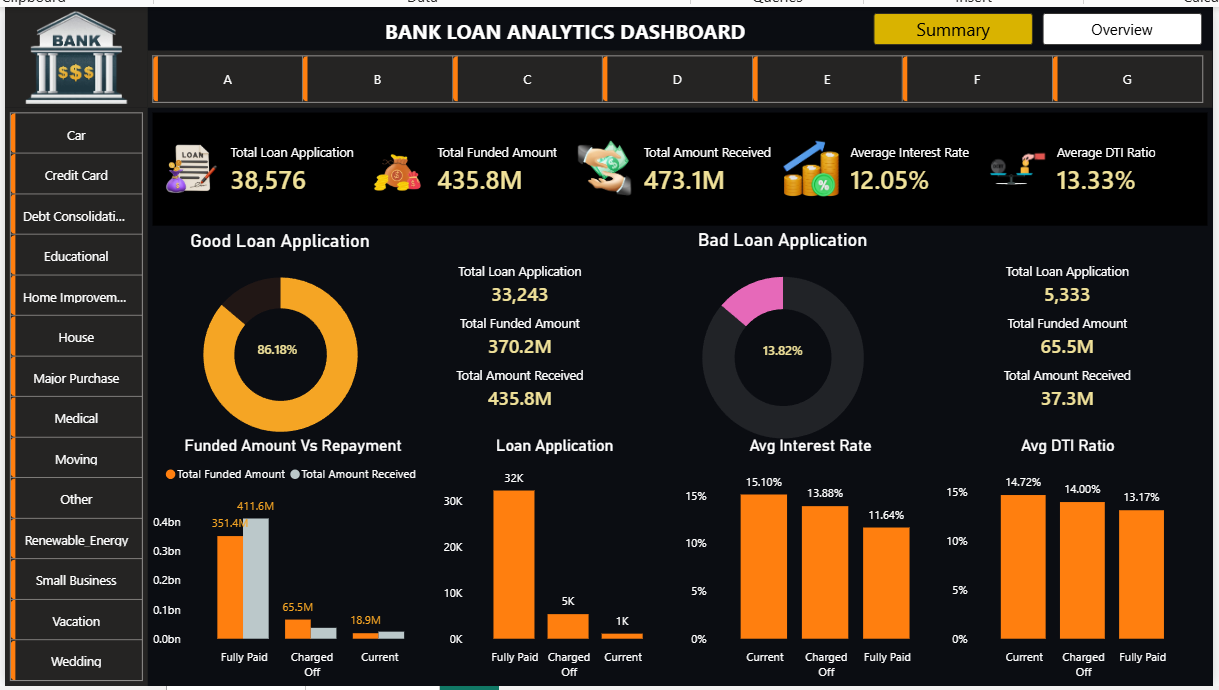

Layout of this report page (visuals, bound fields, positions):
{"tool":"powerbi","page":{"name":"Summary","canvas":[1280,720],"ordinal":0},"visuals":[{"type":"cardVisual","fields":{"Data":["financial_loan.Total Loan Application","financial_loan.Total Funded Amount","financial_loan.Total Amount Received","financial_loan.Average Interest Rate","financial_loan.Average DTI Rate"]},"box":[151.1,106.6,1129.3,130.4],"z":0},{"type":"donutChart","title":"Good Loan Application ","fields":{"Category":["financial_loan.Good_Vs_Bad_Loan"],"Y":["financial_loan.Total Loan Application"]},"box":[151.1,237,281.5,238.6],"z":1000},{"type":"donutChart","title":"Bad Loan Application ","fields":{"Category":["financial_loan.Good_Vs_Bad_Loan"],"Y":["financial_loan.Total Loan Application"]},"box":[656.9,235.4,335.6,248.1],"z":2000},{"type":"cardVisual","fields":{"Data":["financial_loan.Good Loan %"]},"box":[238.6,322.9,116.1,77.9],"z":3000},{"type":"cardVisual","fields":{"Data":["financial_loan.Bad Loan %"]},"box":[774.6,337.2,100.2,49.3],"z":4000},{"type":"cardVisual","fields":{"Data":["financial_loan.Total Loan Application","financial_loan.Total Funded Amount","financial_loan.Total Amount Received"],"Rows":["financial_loan.Good_Vs_Bad_Loan"]},"box":[402.4,165.4,287.9,310.2],"z":5000},{"type":"cardVisual","fields":{"Data":["financial_loan.Total Loan Application","financial_loan.Total Funded Amount","financial_loan.Total Amount Received"],"Rows":["financial_loan.Good_Vs_Bad_Loan"]},"box":[983,165.4,287.9,310.2],"z":6000},{"type":"clusteredColumnChart","title":" Funded Amount Vs Repayment","fields":{"Category":["financial_loan.LOAN_STATUS"],"Y":["financial_loan.Total Funded Amount","financial_loan.Total Amount Received"]},"box":[151.1,454.9,308.6,265.6],"z":7000},{"type":"clusteredColumnChart","title":"Loan Application","fields":{"Category":["financial_loan.LOAN_STATUS"],"Y":["financial_loan.Total Loan Application"]},"box":[459.7,454.9,246.5,265.6],"z":8000},{"type":"clusteredColumnChart","title":"Avg Interest Rate","fields":{"Category":["financial_loan.LOAN_STATUS"],"Y":["financial_loan.Average Interest Rate"]},"box":[715.8,454.9,276.8,265.6],"z":9000},{"type":"clusteredColumnChart","title":"Avg DTI Ratio","fields":{"Category":["financial_loan.LOAN_STATUS"],"Y":["financial_loan.Average DTI Ratio"]},"box":[992.5,454.9,268.8,265.6],"z":10000},{"type":"image","box":[0,0,151.1,106.6],"z":11000},{"type":"advancedSlicerVisual","fields":{"Values":["financial_loan.PURPOSE"]},"box":[0,106.6,151.1,614],"z":12000},{"type":"advancedSlicerVisual","fields":{"Values":["financial_loan.GRADE"]},"box":[151.1,46.1,1129.3,60.4],"z":13000},{"type":"textbox","box":[313.4,4.8,561.5,39.8],"z":15000},{"type":"pageNavigator","box":[921,6.4,349.9,35],"z":16000}]}

Visuals, with their boxes on the page's 1280x720 design canvas (x1, y1, x2, y2). These are canvas units, not pixel positions in the 1219x690 screenshot, which may show the page scaled, cropped or inside an application window:
cardVisual - financial_loan.Total Loan Application x financial_loan.Total Funded Amount: {"left": 151, "top": 107, "right": 1280, "bottom": 237}
"Good Loan Application " donutChart: {"left": 151, "top": 237, "right": 433, "bottom": 476}
"Bad Loan Application " donutChart: {"left": 657, "top": 235, "right": 992, "bottom": 484}
cardVisual - financial_loan.Good Loan %: {"left": 239, "top": 323, "right": 355, "bottom": 401}
cardVisual - financial_loan.Bad Loan %: {"left": 775, "top": 337, "right": 875, "bottom": 386}
cardVisual - financial_loan.Total Loan Application x financial_loan.Total Funded Amount: {"left": 402, "top": 165, "right": 690, "bottom": 476}
cardVisual - financial_loan.Total Loan Application x financial_loan.Total Funded Amount: {"left": 983, "top": 165, "right": 1271, "bottom": 476}
" Funded Amount Vs Repayment" clusteredColumnChart: {"left": 151, "top": 455, "right": 460, "bottom": 720}
"Loan Application" clusteredColumnChart: {"left": 460, "top": 455, "right": 706, "bottom": 720}
"Avg Interest Rate" clusteredColumnChart: {"left": 716, "top": 455, "right": 993, "bottom": 720}
"Avg DTI Ratio" clusteredColumnChart: {"left": 992, "top": 455, "right": 1261, "bottom": 720}
image: {"left": 0, "top": 0, "right": 151, "bottom": 107}
advancedSlicerVisual - financial_loan.PURPOSE: {"left": 0, "top": 107, "right": 151, "bottom": 721}
advancedSlicerVisual - financial_loan.GRADE: {"left": 151, "top": 46, "right": 1280, "bottom": 106}
textbox: {"left": 313, "top": 5, "right": 875, "bottom": 45}
pageNavigator: {"left": 921, "top": 6, "right": 1271, "bottom": 41}
